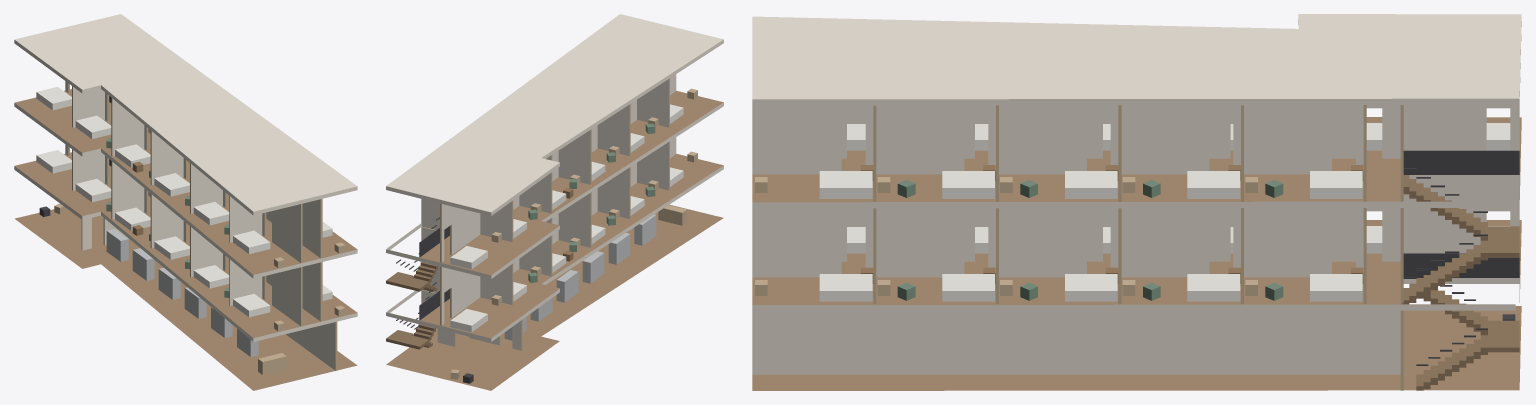
Rendered from interior.glb.
The picture shows the model from 3 angles, left to right: view 1: azimuth 30°, elevation 25°; view 2: azimuth 150°, elevation 25°; view 3: azimuth 270°, elevation 25°; orthographic projection. The views are drawn at different scales.
Parts seen in each view (by area): view 1: slabs, partitions, coarse-s2, coarse-s1, coarse-s0; view 2: slabs, partitions, coarse-s0, stair, coarse-s1, coarse-s2; view 3: partitions, slabs, stair, coarse-s2, coarse-s1.
Boxes of the visible parts, left/top/right/bottom form: slabs: left=14, top=14, right=357, bottom=390; partitions: left=65, top=81, right=337, bottom=370; coarse-s2: left=36, top=86, right=345, bottom=267; coarse-s1: left=36, top=150, right=345, bottom=331; coarse-s0: left=39, top=203, right=286, bottom=374; slabs: left=386, top=14, right=723, bottom=390; partitions: left=421, top=74, right=676, bottom=350; coarse-s0: left=450, top=205, right=686, bottom=383; stair: left=386, top=217, right=449, bottom=349; coarse-s1: left=450, top=151, right=697, bottom=332; coarse-s2: left=450, top=88, right=697, bottom=269; partitions: left=752, top=105, right=1519, bottom=390; slabs: left=752, top=14, right=1521, bottom=390; stair: left=1402, top=150, right=1519, bottom=390; coarse-s2: left=755, top=123, right=1510, bottom=198; coarse-s1: left=755, top=226, right=1509, bottom=301.
Size of the model in its own units: 7.64 by 12.18 by 29.07.
